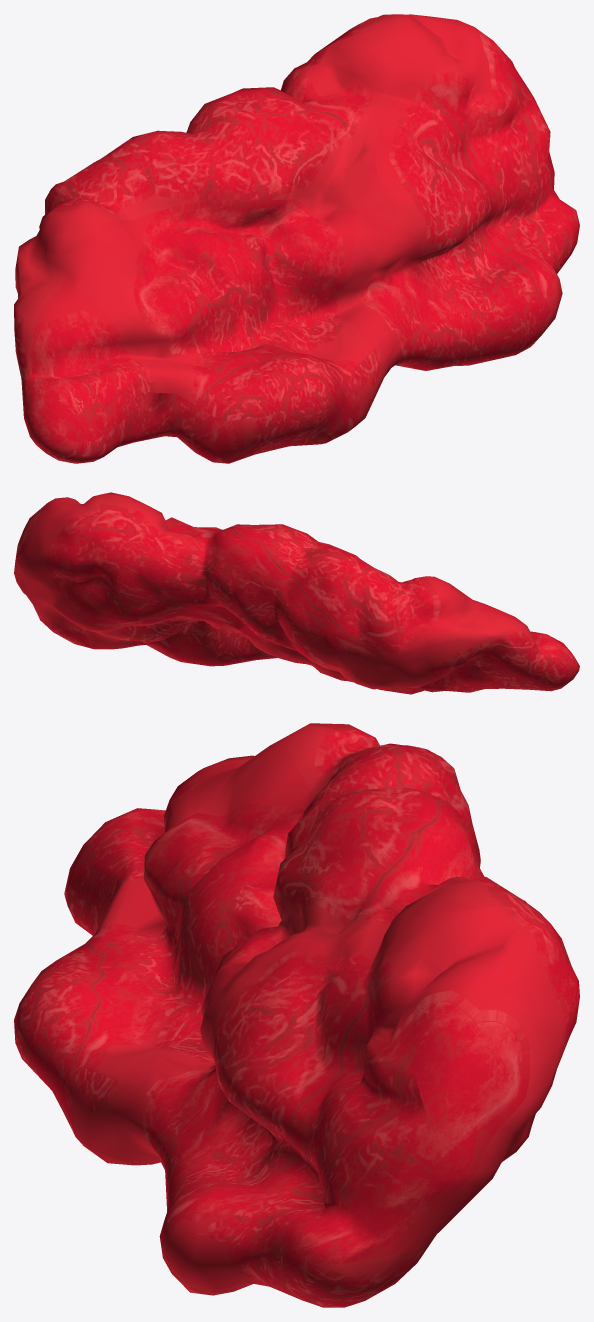
File: SM_e_202_DemonMeatParts_05a.fbx
3 views of the same model, one above another, from view 1: azimuth 30°, elevation 25°; view 2: azimuth 150°, elevation 25°; view 3: azimuth 270°, elevation 25° (orthographic). The views are drawn at different scales.
Parts seen in each view (by area): view 1: SM_e_202_DemonMeatParts_05a.001; view 2: SM_e_202_DemonMeatParts_05a.001; view 3: SM_e_202_DemonMeatParts_05a.001.
Boxes of the visible parts, x1,y1,x2,y2 form: SM_e_202_DemonMeatParts_05a.001: (14, 14, 579, 463); SM_e_202_DemonMeatParts_05a.001: (14, 492, 579, 694); SM_e_202_DemonMeatParts_05a.001: (14, 723, 579, 1307).
Bounding box in the file's own units: 8.4 × 3.58 × 4.71.
Materials: 1 (1 with a texture image).
